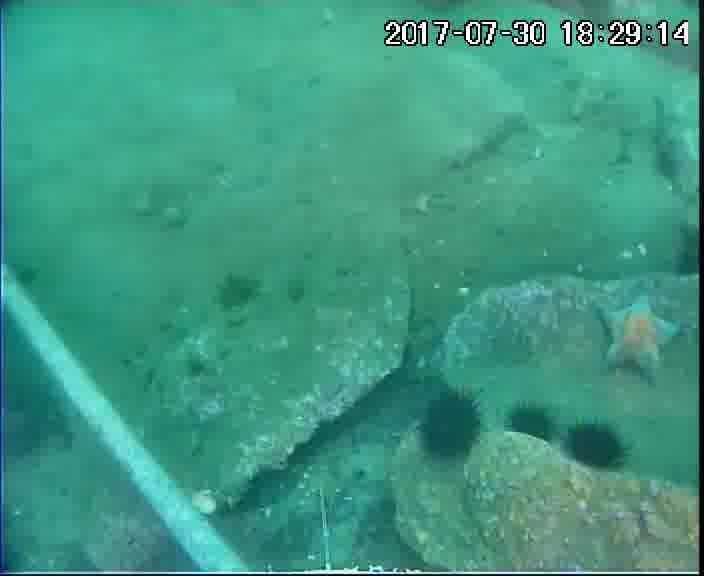echinus: (418, 385, 485, 464), (569, 424, 621, 467), (505, 401, 555, 444)
starfish: (596, 291, 681, 383)
